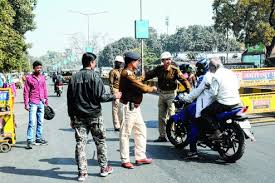helmet: (192, 56, 210, 77)
